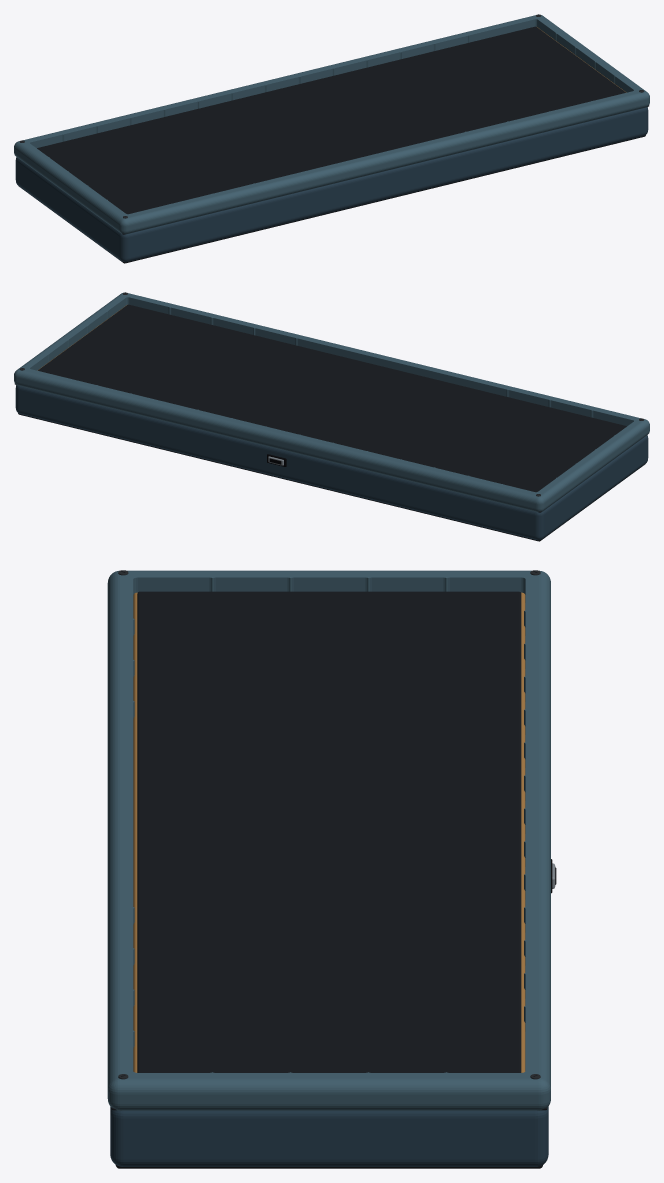
File: ansi-61.glb
3 views of the same model, one above another, from view 1: azimuth 30°, elevation 25°; view 2: azimuth 150°, elevation 25°; view 3: azimuth 270°, elevation 25° (orthographic). The views are drawn at different scales.
Visible parts, largest first — view 1: KeybedShadow, TopFrame, CaseBody, BottomEdge; view 2: KeybedShadow, TopFrame, CaseBody, BottomEdge; view 3: KeybedShadow, TopFrame, CaseBody, Plate, BottomEdge.
Boxes of the visible parts, bbox=[...] form: KeybedShadow: bbox=[37, 26, 625, 214]; TopFrame: bbox=[14, 14, 649, 234]; CaseBody: bbox=[15, 107, 648, 262]; BottomEdge: bbox=[18, 135, 645, 263]; KeybedShadow: bbox=[38, 304, 626, 492]; TopFrame: bbox=[14, 292, 649, 512]; CaseBody: bbox=[15, 385, 648, 540]; BottomEdge: bbox=[18, 413, 645, 541]; KeybedShadow: bbox=[137, 591, 521, 1072]; TopFrame: bbox=[107, 570, 550, 1110]; CaseBody: bbox=[110, 603, 548, 1166]; Plate: bbox=[133, 592, 525, 1072]; BottomEdge: bbox=[115, 1165, 542, 1168].
Size of the model in its own units: 0.2988 by 0.0263 by 0.1095.
